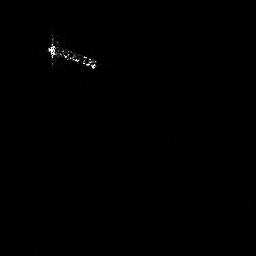ship: (44, 30, 102, 73)
